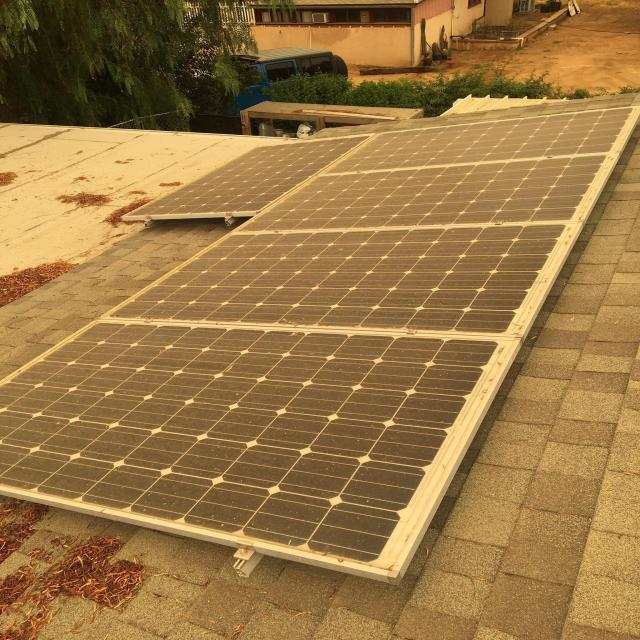dust-solar-panel: (0, 106, 640, 566)
